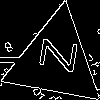Z: (30, 35, 78, 74)
